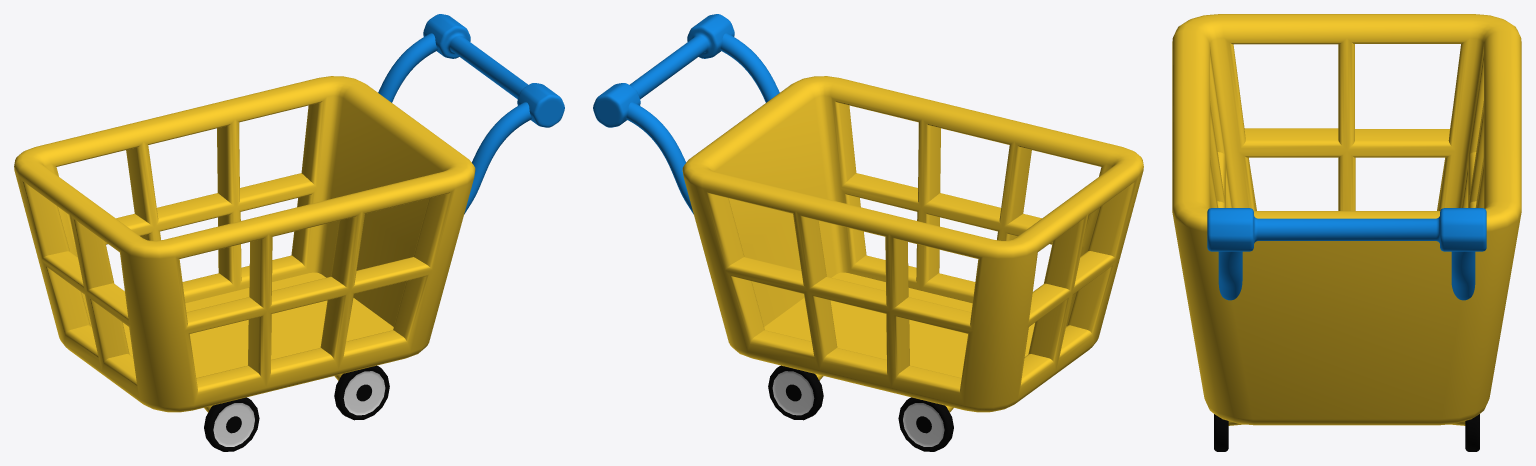
The model's file is cart.glb.
The picture shows the model from 3 angles, left to right: view 1: azimuth 30°, elevation 25°; view 2: azimuth 150°, elevation 25°; view 3: azimuth 270°, elevation 25°; orthographic projection. The views are drawn at different scales.
Visible parts, largest first — view 1: Cube, Tutacak, Tekerlekler; view 2: Cube, Tutacak, Tekerlekler; view 3: Cube, Tutacak, Tekerlekler.
Part boxes in pixels (bbox=[...]): Cube: bbox=[14, 76, 475, 412]; Tutacak: bbox=[378, 14, 564, 214]; Tekerlekler: bbox=[204, 365, 389, 451]; Cube: bbox=[682, 76, 1143, 412]; Tutacak: bbox=[593, 14, 779, 214]; Tekerlekler: bbox=[768, 365, 953, 451]; Cube: bbox=[1172, 14, 1521, 425]; Tutacak: bbox=[1207, 208, 1486, 300]; Tekerlekler: bbox=[1214, 414, 1479, 451].
Size of the model in its own units: 1.62 by 0.9937 by 0.9001.
